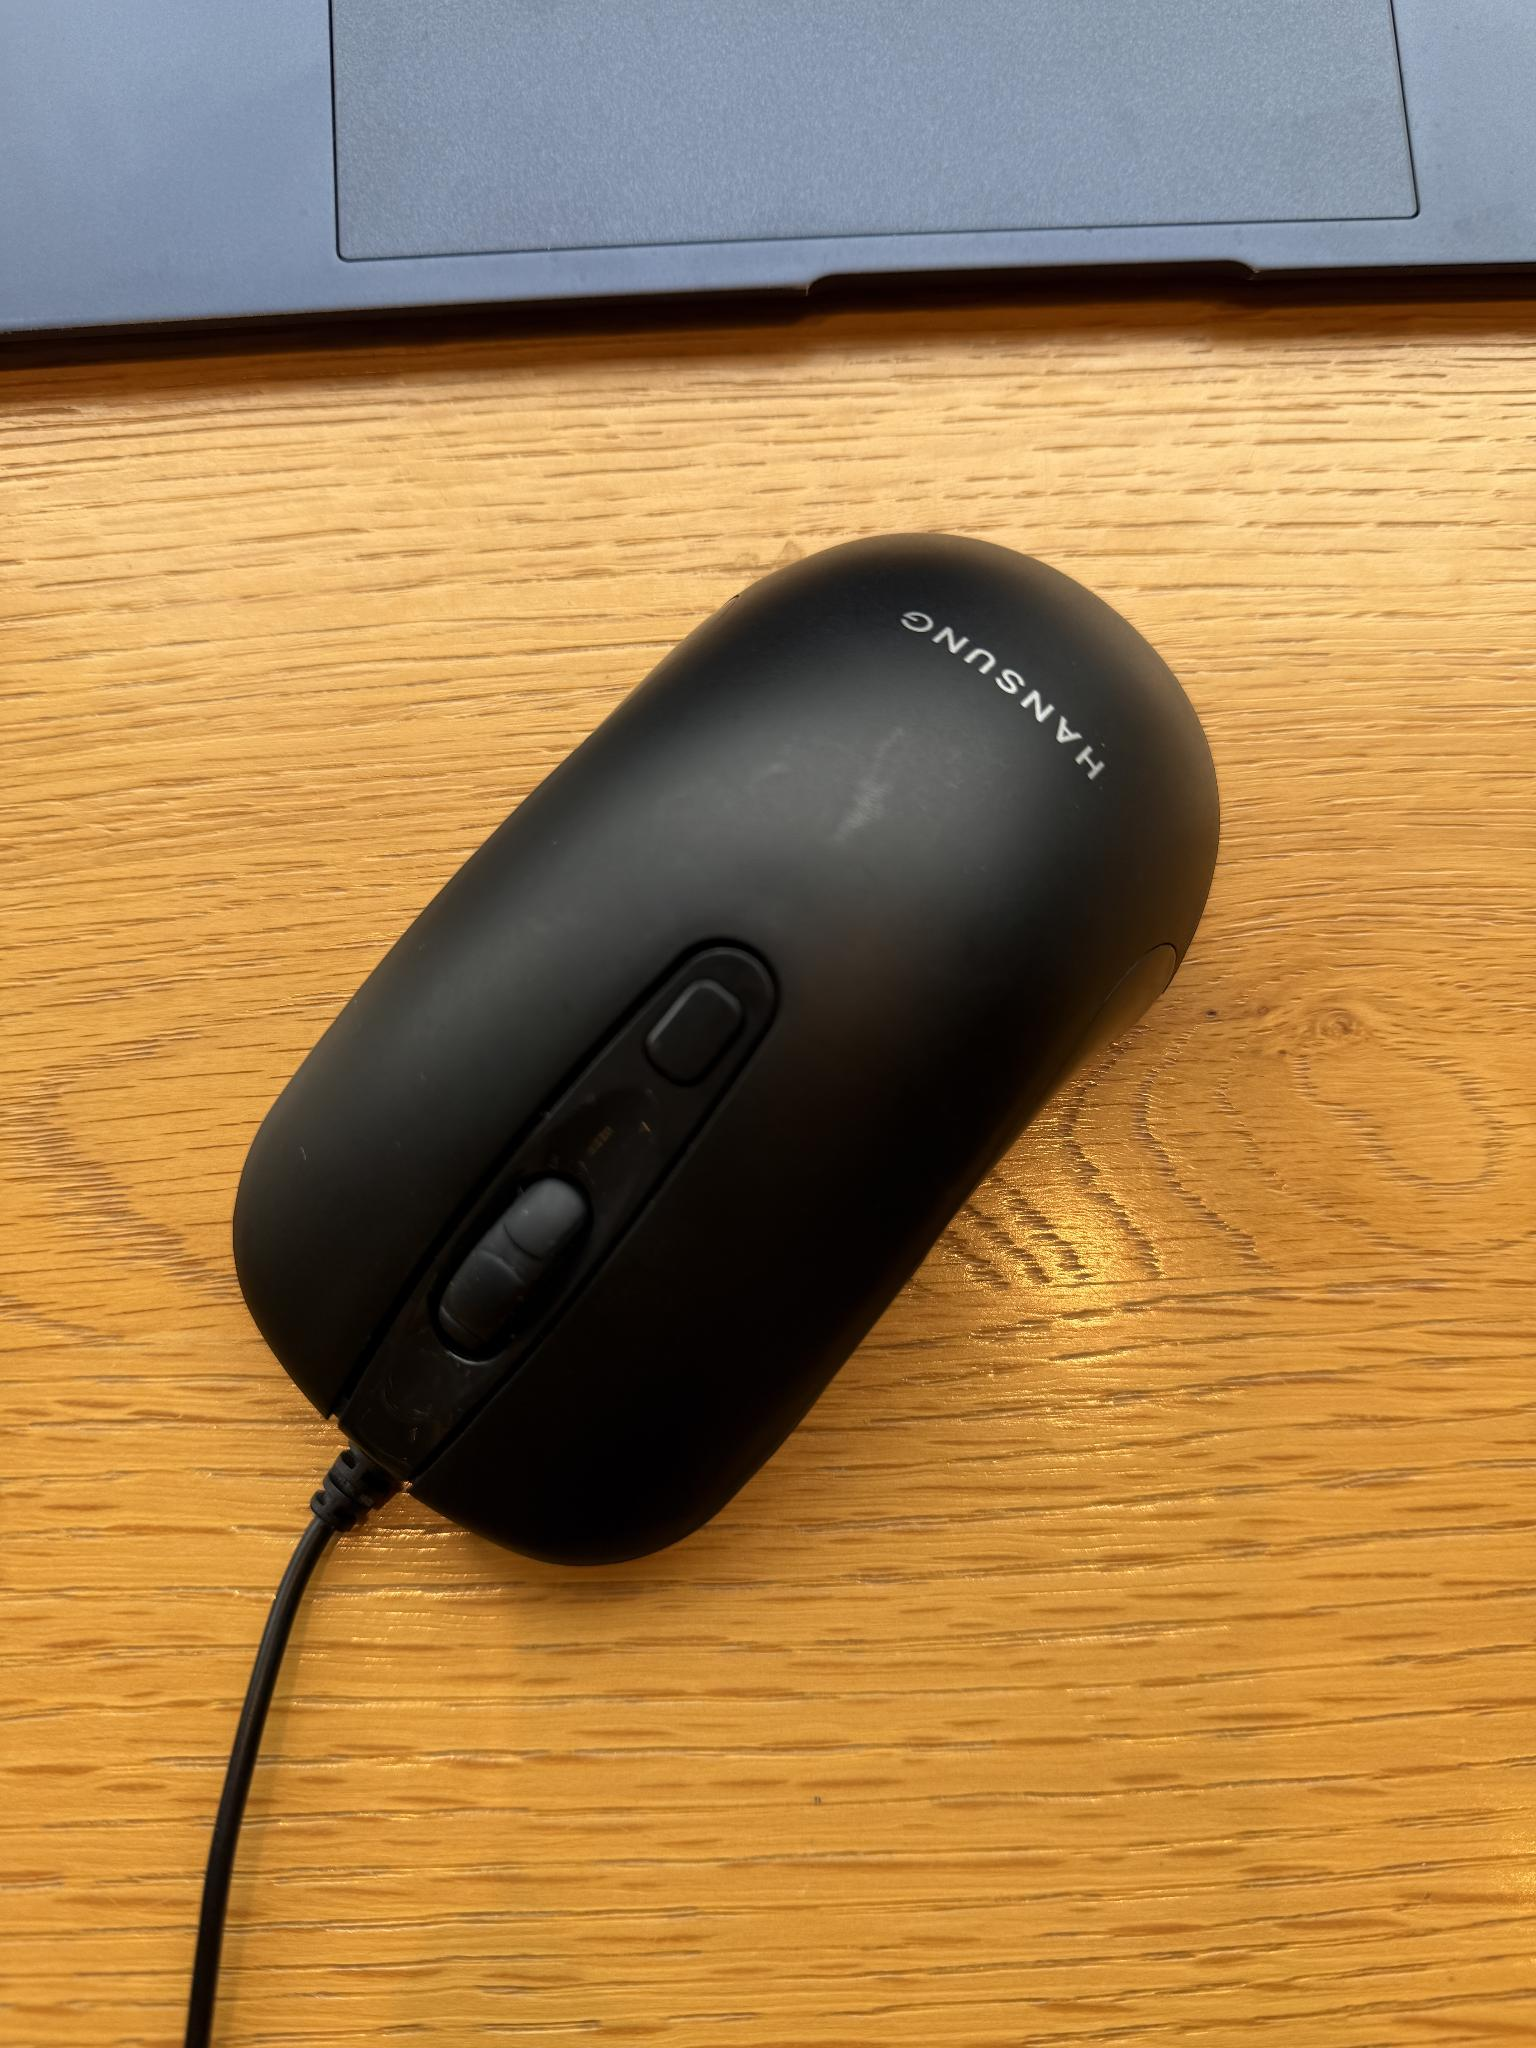front: (219, 519, 1220, 1574)
